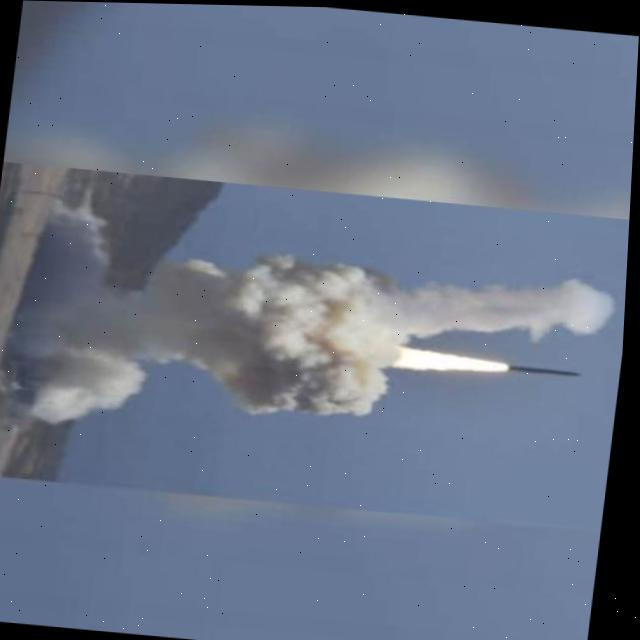missile: (509, 356, 586, 376)
